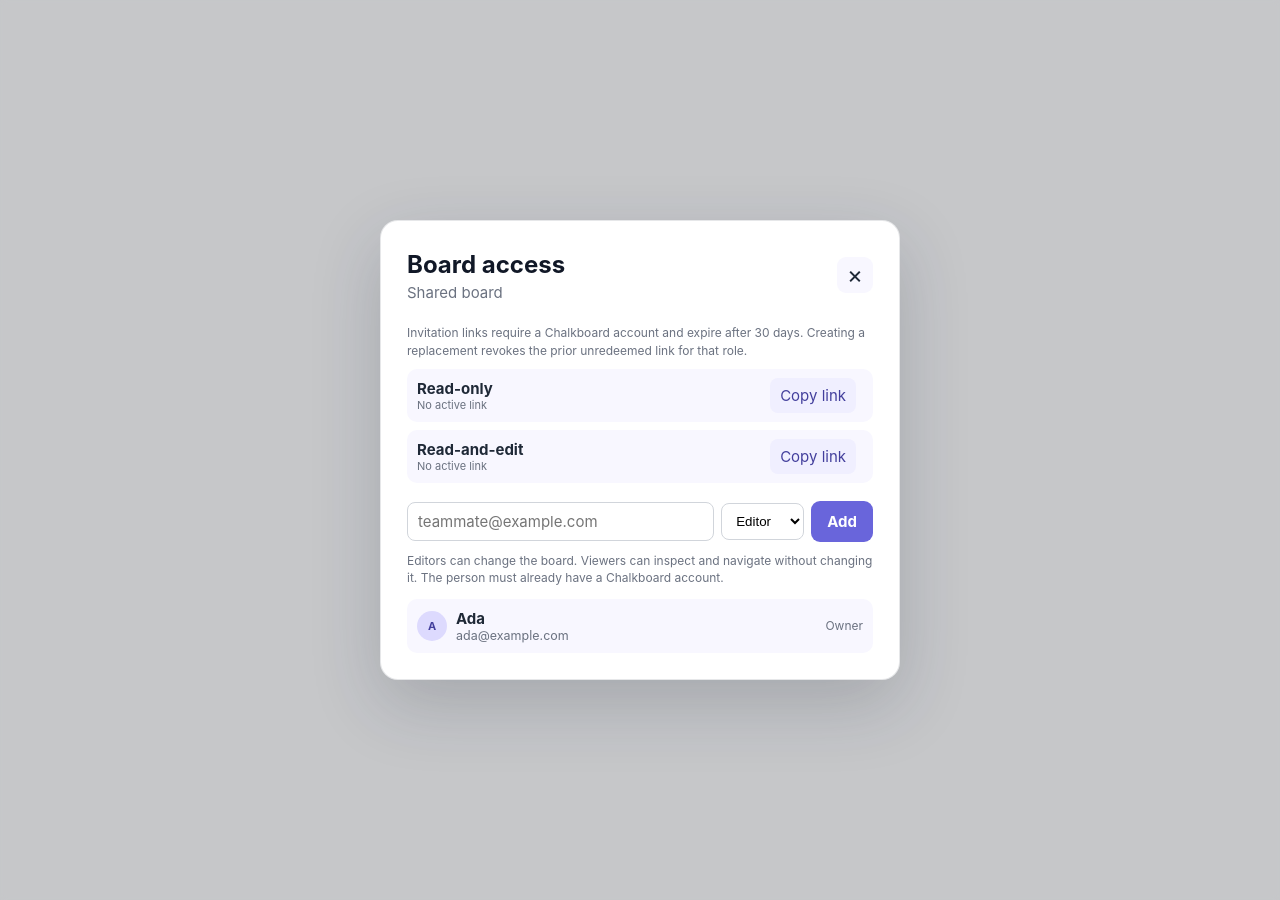
Test: BoardAccessPanel › names sharing with yourself instead of denying the account exists
The width and height of the screenshot is (1280, 900).
expect the element named "Manage Shared board" is shown: met, box [407, 324, 873, 653]
Type "Ada@Example.com" into the field named "Member email".
click(561, 522); type("Ada@Example.com")  # box [407, 502, 714, 541]
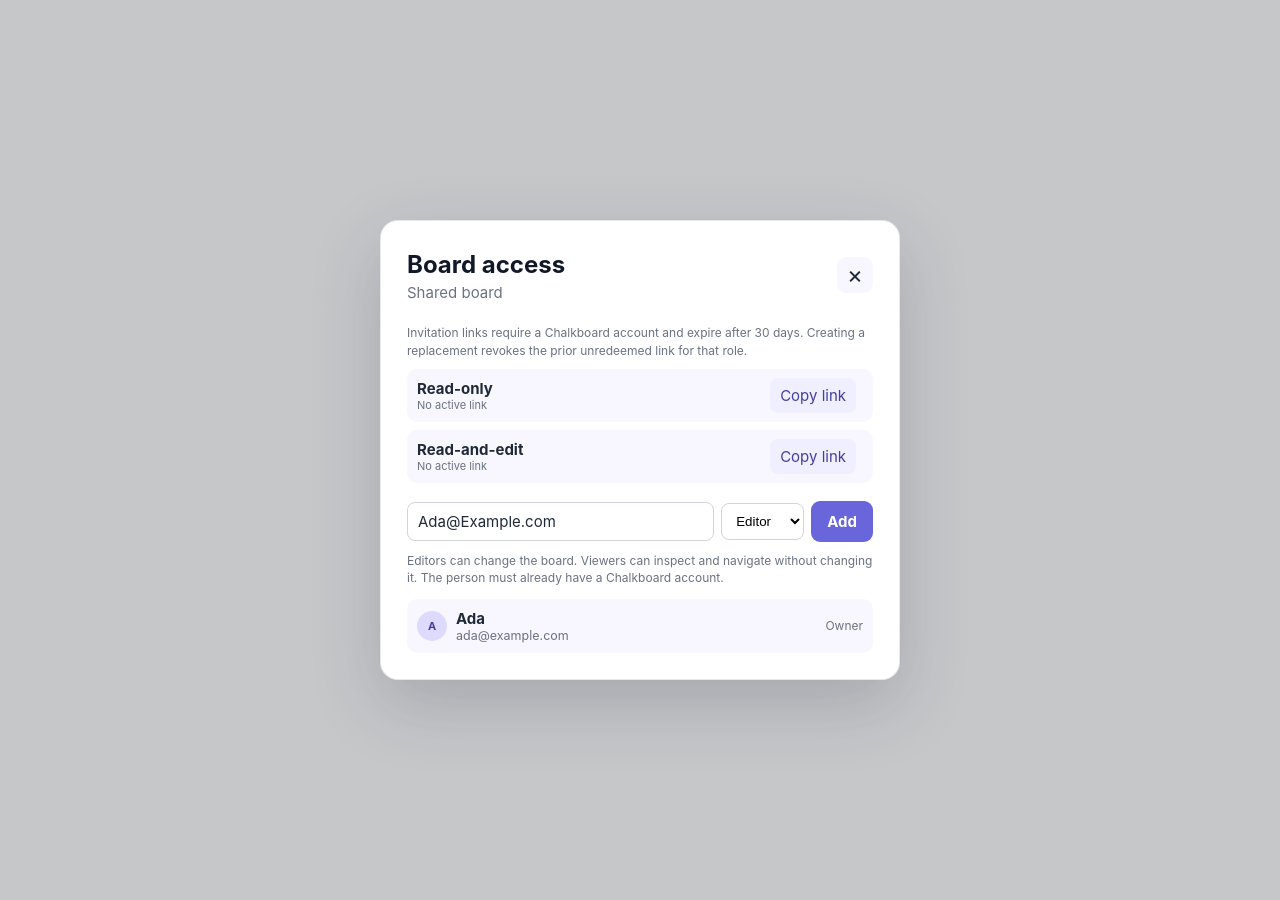
Click the button "Add".
click(842, 522)  # box [811, 501, 873, 542]
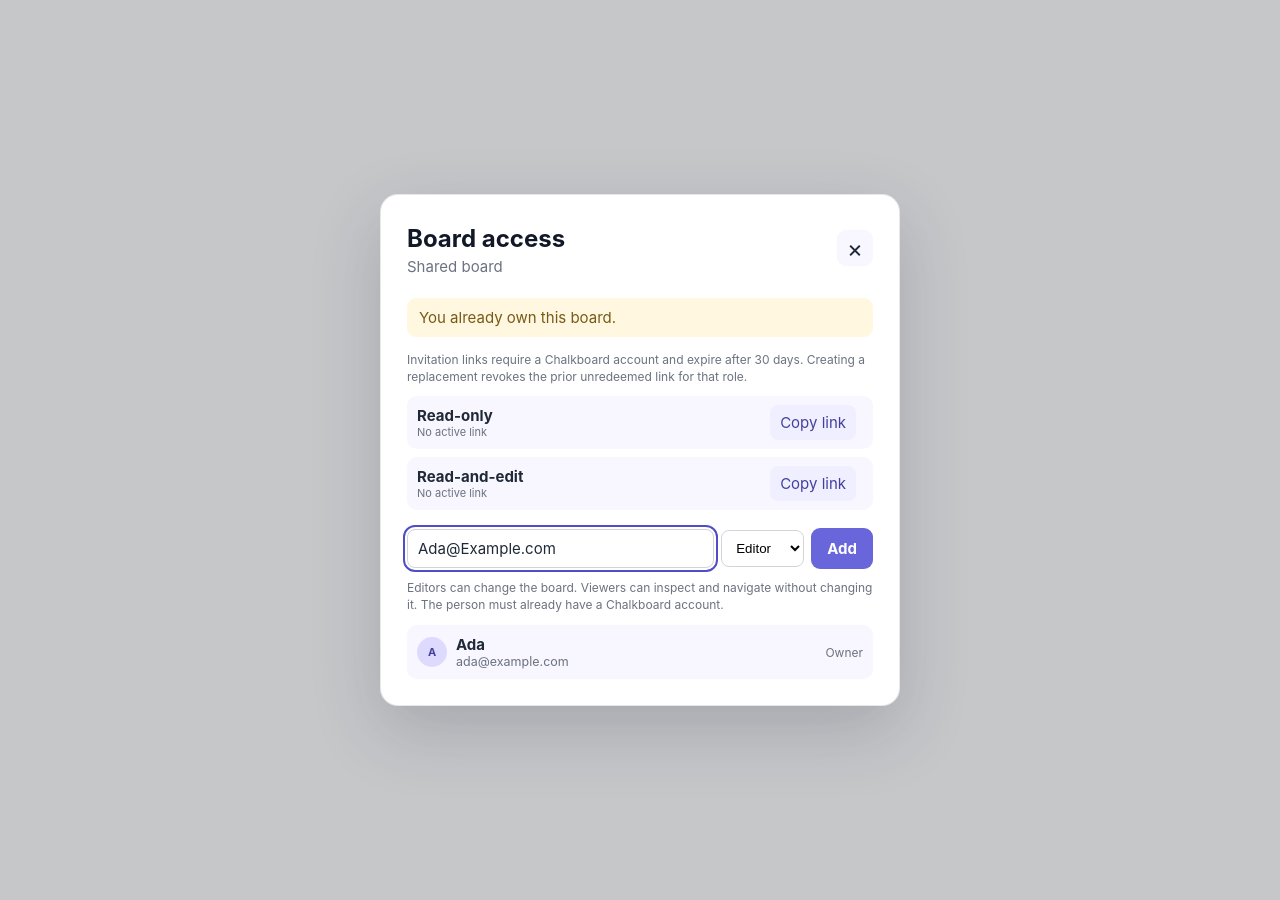
expect the message reads "You already own this board.": met, box [419, 308, 616, 327]
